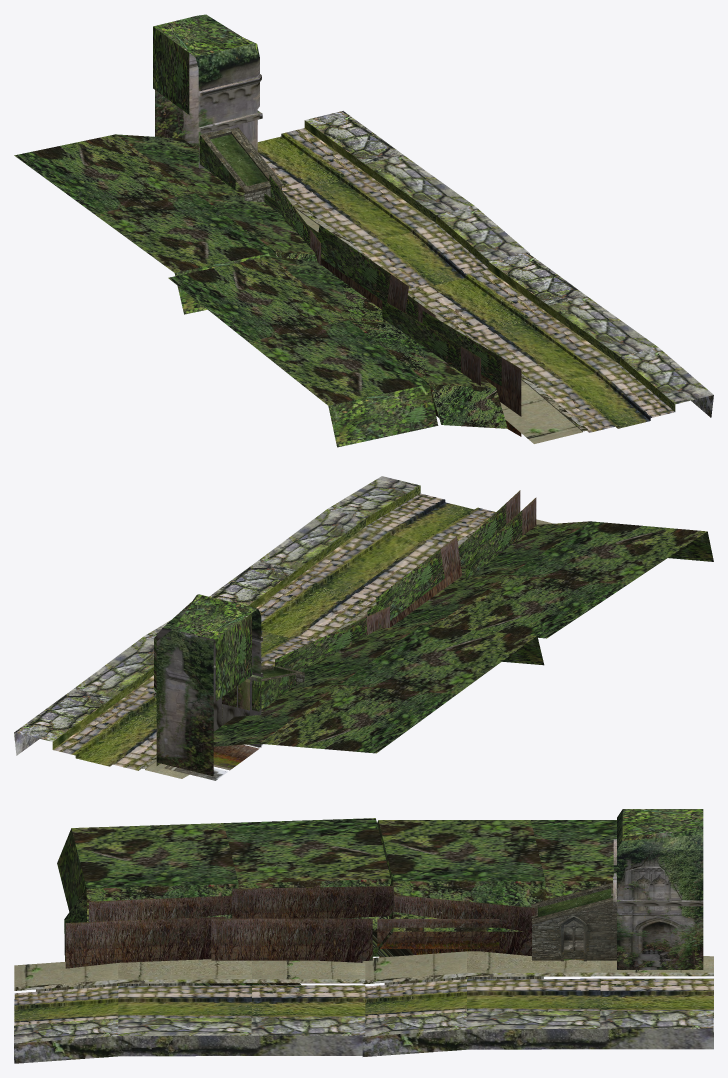
File: street3.fbx
3 views of the same model, one above another, from view 1: azimuth 30°, elevation 25°; view 2: azimuth 150°, elevation 25°; view 3: azimuth 270°, elevation 25° (orthographic). The views are drawn at different scales.
Parts seen in each view (by area): view 1: Plane.002, Plane.003, Plane.001, Plane, Cube.003, Cube.001, Cube.004, Cube.006, Cube.007, Cube; view 2: Plane, Plane.003, Plane.002, Cube.003, Plane.001, Cube.004, Cube, Cube.001, Cube.007, Cube.006; view 3: Plane.003, Plane.001, Plane.002, Plane, Cube.003, Cube.005, Cube.006, Cube.001, Cube.004, Cube, Cube.002, Cube.007.
Boxes of the visible parts, left/top/right/bottom form: Plane.002: left=168, top=256, right=507, bottom=447; Plane.003: left=408, top=252, right=713, bottom=443; Plane.001: left=257, top=111, right=529, bottom=288; Plane: left=14, top=134, right=317, bottom=314; Cube.003: left=153, top=14, right=262, bottom=168; Cube.001: left=200, top=127, right=282, bottom=201; Cube.004: left=315, top=225, right=408, bottom=312; Cube.006: left=422, top=311, right=521, bottom=436; Cube.007: left=382, top=300, right=480, bottom=397; Cube: left=269, top=174, right=320, bottom=265; Plane: left=213, top=626, right=544, bottom=753; Plane.003: left=209, top=476, right=552, bottom=640; Plane.002: left=390, top=521, right=713, bottom=638; Cube.003: left=153, top=594, right=263, bottom=780; Plane.001: left=14, top=620, right=313, bottom=778; Cube.004: left=376, top=536, right=462, bottom=628; Cube: left=275, top=606, right=389, bottom=670; Cube.001: left=222, top=665, right=304, bottom=747; Cube.007: left=465, top=497, right=536, bottom=580; Cube.006: left=458, top=490, right=520, bottom=566; Plane.003: left=14, top=959, right=365, bottom=1063; Plane.001: left=362, top=951, right=713, bottom=1056; Plane.002: left=57, top=818, right=413, bottom=985; Plane: left=369, top=820, right=680, bottom=960; Cube.003: left=613, top=809, right=703, bottom=969; Cube.005: left=211, top=918, right=372, bottom=983; Cube.006: left=65, top=916, right=226, bottom=968; Cube.001: left=531, top=882, right=616, bottom=961; Cube.004: left=232, top=886, right=393, bottom=918; Cube: left=379, top=895, right=536, bottom=957; Cube.002: left=377, top=919, right=499, bottom=948; Cube.007: left=89, top=896, right=232, bottom=921.
Size of the model in its own units: 2363 by 1266 by 4250.
